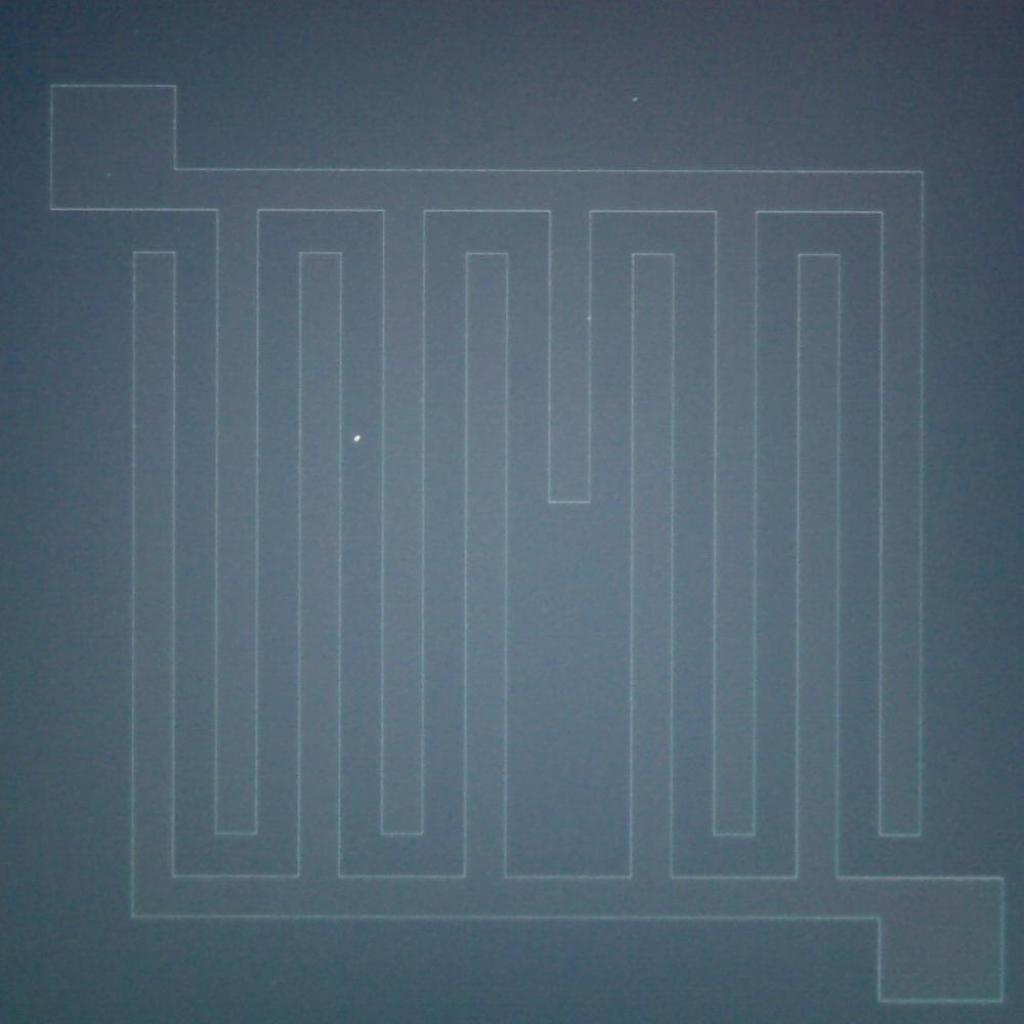dot: (354, 436, 361, 442), (632, 96, 638, 102), (588, 316, 592, 320)
